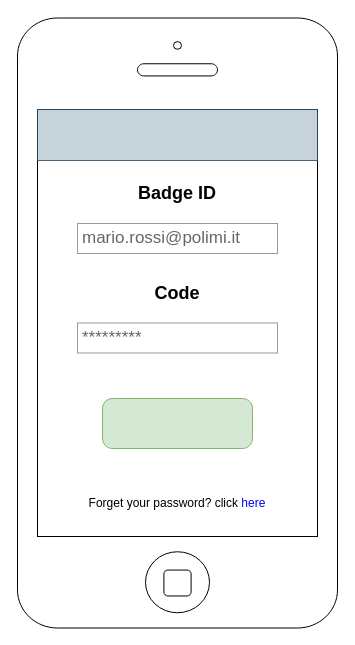
The diagram is 355 pixels wide and 645 high, and some of its shapes have lost their labels. The shapes that lost their labels are listed below. From the top down, each one's box as (x1, y1, x2, y2) in pixels, then its label:
(36, 108, 318, 160): Login Officer
(102, 398, 252, 448): Login
